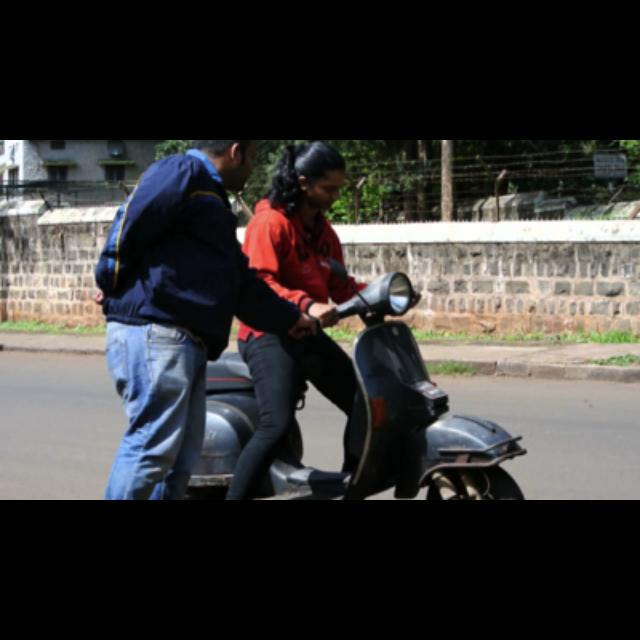Without Helmet: (280, 142, 350, 210)
